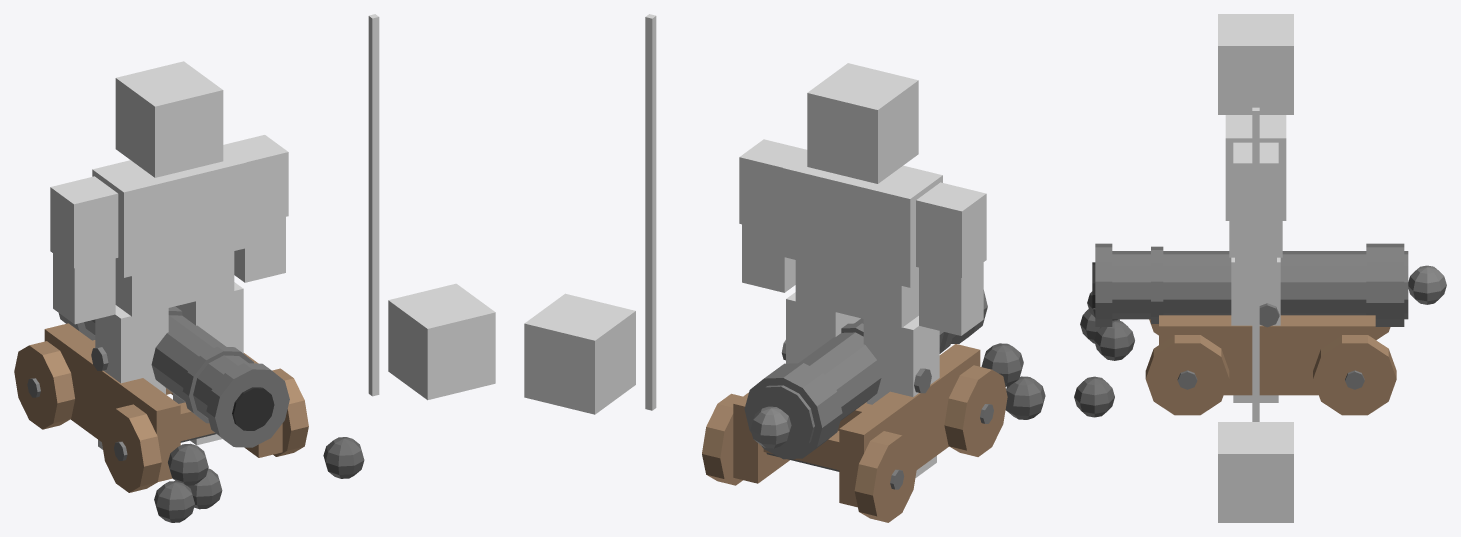
File: grotto_cannon_prop_set.fbx
3 views of the same model, side by side, from view 1: azimuth 30°, elevation 25°; view 2: azimuth 150°, elevation 25°; view 3: azimuth 270°, elevation 25° (orthographic). The views are drawn at different scales.
Visible parts, largest first — view 1: Ref_UpperTorso, Ref_Head, 1_Stud_Cube, Cannon_CheekL, Ref_LeftUpperArm, Ref_LowerTorso, 5.3_Stud_Height_Ruler, Cannon_Barrel, Ref_LeftUpperLeg, Cannon_Muzzle, Cannon_Wheel_3, Cannon_Wheel_1 (+13 smaller); view 2: Ref_UpperTorso, 1_Stud_Cube, Ref_Head, Cannon_CheekL, Cannon_Barrel, Ref_LeftUpperArm, Ref_LowerTorso, 5.3_Stud_Height_Ruler, Ref_LeftUpperLeg, Cannon_Wheel_3, Cannon_Wheel_1, Ref_RightUpperArm (+10 smaller); view 3: Cannon_Barrel, Cannon_CheekR, 1_Stud_Cube, Ref_Head, Cannon_Wheel_2, Cannon_Wheel_4, Ref_RightUpperArm, Cannon_Breech, Ref_UpperTorso, 5.3_Stud_Height_Ruler, Ref_RightLowerArm, Ref_RightUpperLeg (+6 smaller).
Part boxes in pixels (x1,y1,x2,y2): Ref_UpperTorso: (92,146,246,277); Ref_Head: (115,61,223,177); 1_Stud_Cube: (388,283,495,400); Cannon_CheekL: (44,323,180,481); Ref_LeftUpperArm: (50,176,118,268); Ref_LowerTorso: (115,251,234,316); 5.3_Stud_Height_Ruler: (368,14,379,396); Cannon_Barrel: (84,315,248,418); Ref_LeftUpperLeg: (95,305,168,388); Cannon_Muzzle: (206,363,289,447); Cannon_Wheel_3: (14,341,74,429); Cannon_Wheel_1: (101,404,161,492); Ref_UpperTorso: (783,150,942,287); 1_Stud_Cube: (524,293,635,414); Ref_Head: (807,63,918,183); Cannon_CheekL: (839,344,980,507); Cannon_Barrel: (749,318,957,453); Ref_LeftUpperArm: (916,182,986,277); Ref_LowerTorso: (795,260,918,327); 5.3_Stud_Height_Ruler: (645,14,656,410); Ref_LeftUpperLeg: (863,316,939,401); Cannon_Wheel_3: (854,431,917,522); Cannon_Wheel_1: (944,365,1007,456); Ref_RightUpperArm: (739,139,806,234); Cannon_Barrel: (1112,251,1408,319); Cannon_CheekR: (1159,315,1375,395); 1_Stud_Cube: (1218,422,1293,522); Ref_Head: (1218,14,1293,114); Cannon_Wheel_2: (1145,335,1229,415); Cannon_Wheel_4: (1313,335,1396,415); Ref_RightUpperArm: (1233,142,1278,225); Cannon_Breech: (1366,243,1404,326); Ref_UpperTorso: (1225,115,1286,220); 5.3_Stud_Height_Ruler: (1252,107,1259,421); Ref_RightLowerArm: (1235,225,1276,279); Ref_RightUpperLeg: (1231,257,1280,325).
Size of the model in its own units: 608 by 530 by 490.
